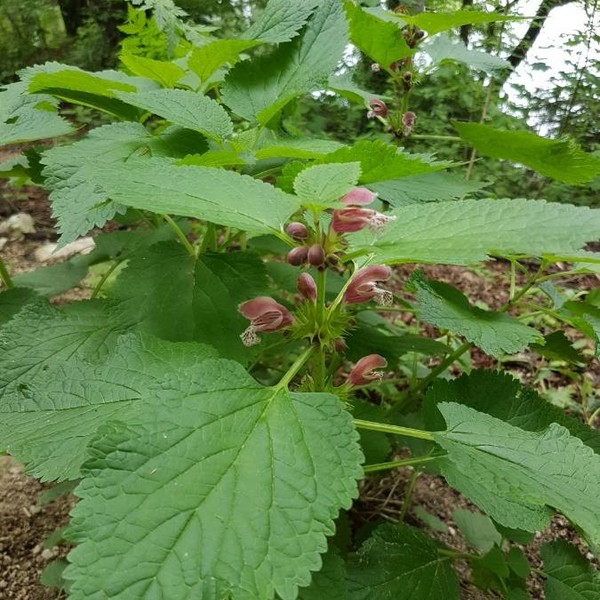obstacle: (40, 107, 577, 585)
